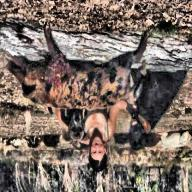boar: (6, 34, 168, 111)
